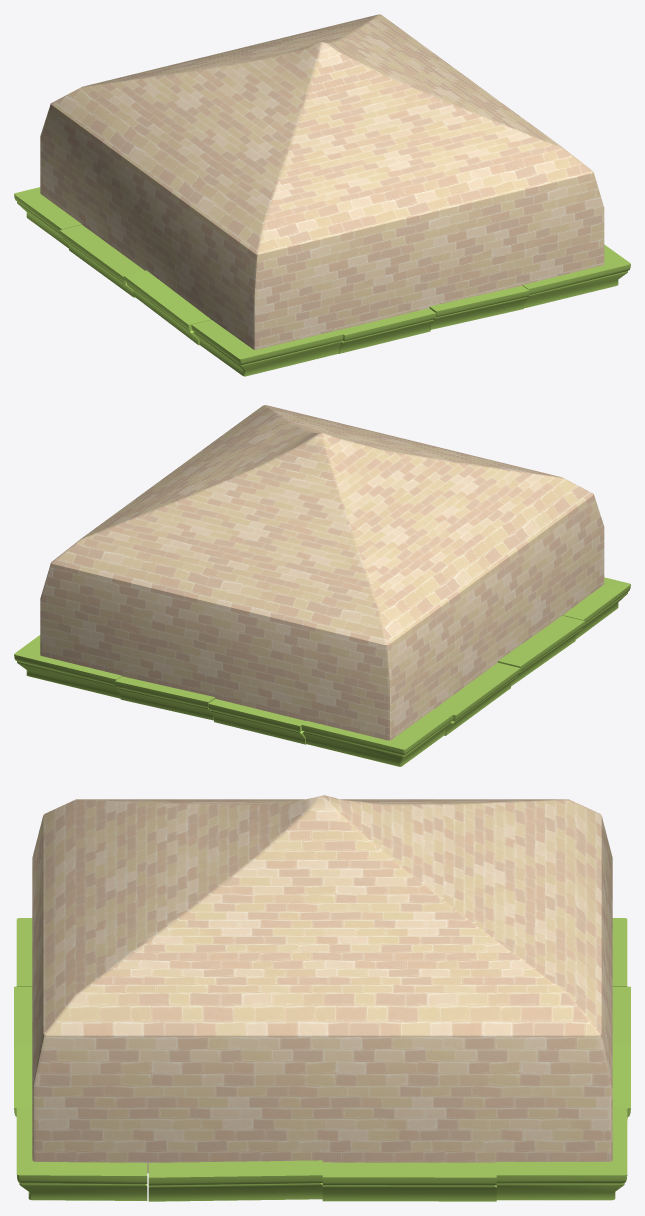
File: SM_ceiling_dome_02.fbx
The picture shows the model from 3 angles, top to bottom: view 1: azimuth 30°, elevation 25°; view 2: azimuth 150°, elevation 25°; view 3: azimuth 270°, elevation 25°; orthographic projection. The views are drawn at different scales.
Visible parts, largest first — view 1: Plane280; view 2: Plane280; view 3: Plane280.
Boxes of the visible parts, x1,y1,x2,y2 form: Plane280: [14, 14, 630, 376]; Plane280: [14, 405, 630, 766]; Plane280: [14, 795, 630, 1201].
Bounding box in the file's own units: 274 × 139 × 274.
